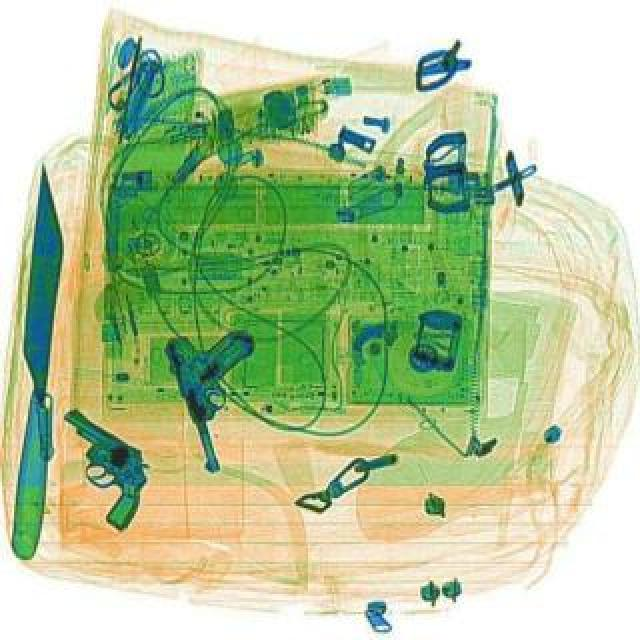gun: (160, 312, 292, 472), (22, 400, 170, 528)
knife: (8, 162, 68, 560)
